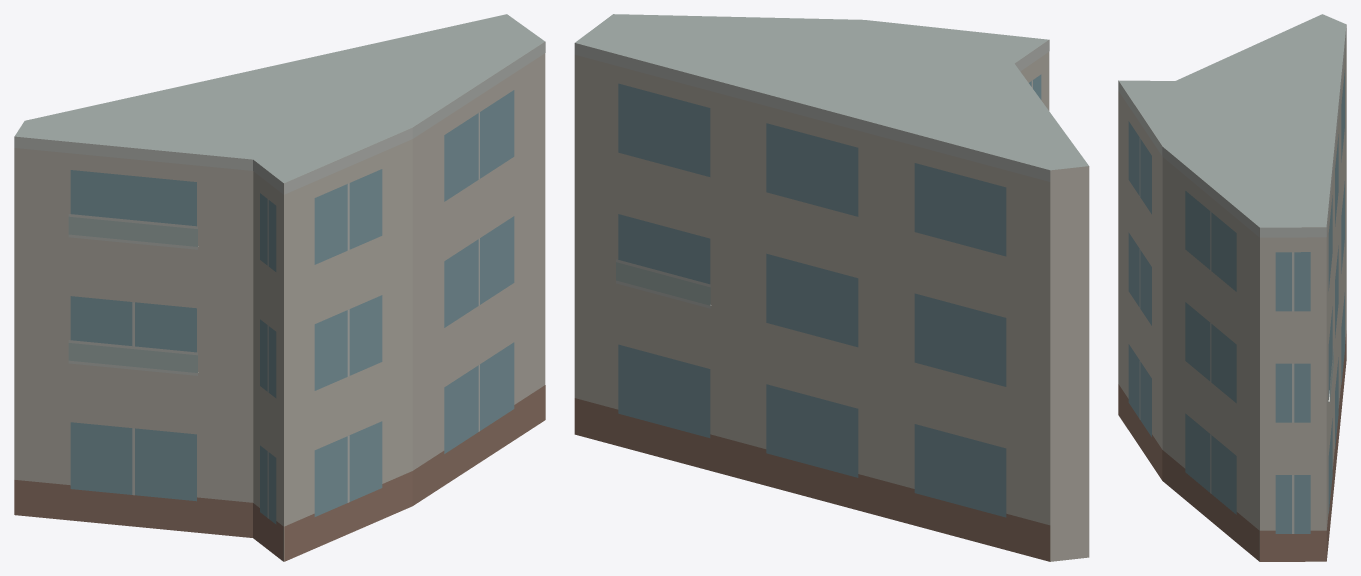
File: survey-upis-32986402.glb
3 views of the same model, side by side, from view 1: azimuth 30°, elevation 25°; view 2: azimuth 150°, elevation 25°; view 3: azimuth 270°, elevation 25° (orthographic). The views are drawn at different scales.
Visible parts, largest first — view 1: survey-upis-32986402.tmp; view 2: survey-upis-32986402.tmp; view 3: survey-upis-32986402.tmp.
Boxes of the visible parts, <box> form: survey-upis-32986402.tmp: <box>14,14,545,561</box>; survey-upis-32986402.tmp: <box>574,14,1089,561</box>; survey-upis-32986402.tmp: <box>1118,14,1346,561</box>.
Size of the model in its own units: 11.11 by 8.1 by 5.02.
